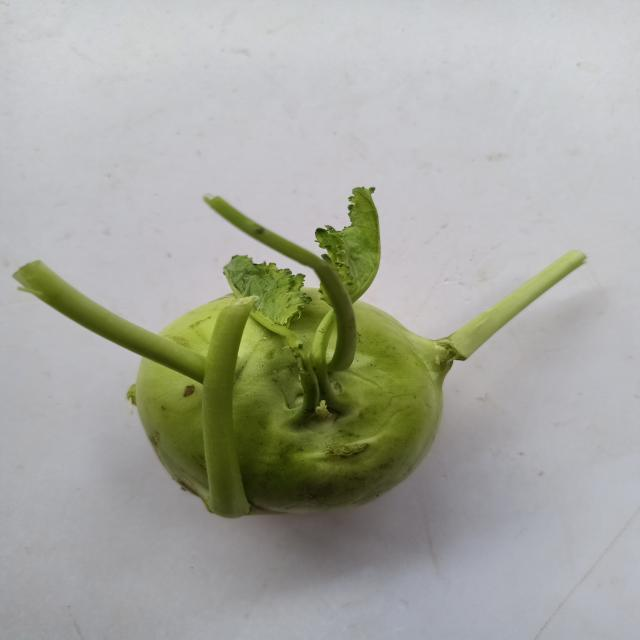Turnip: (7, 186, 618, 560)
